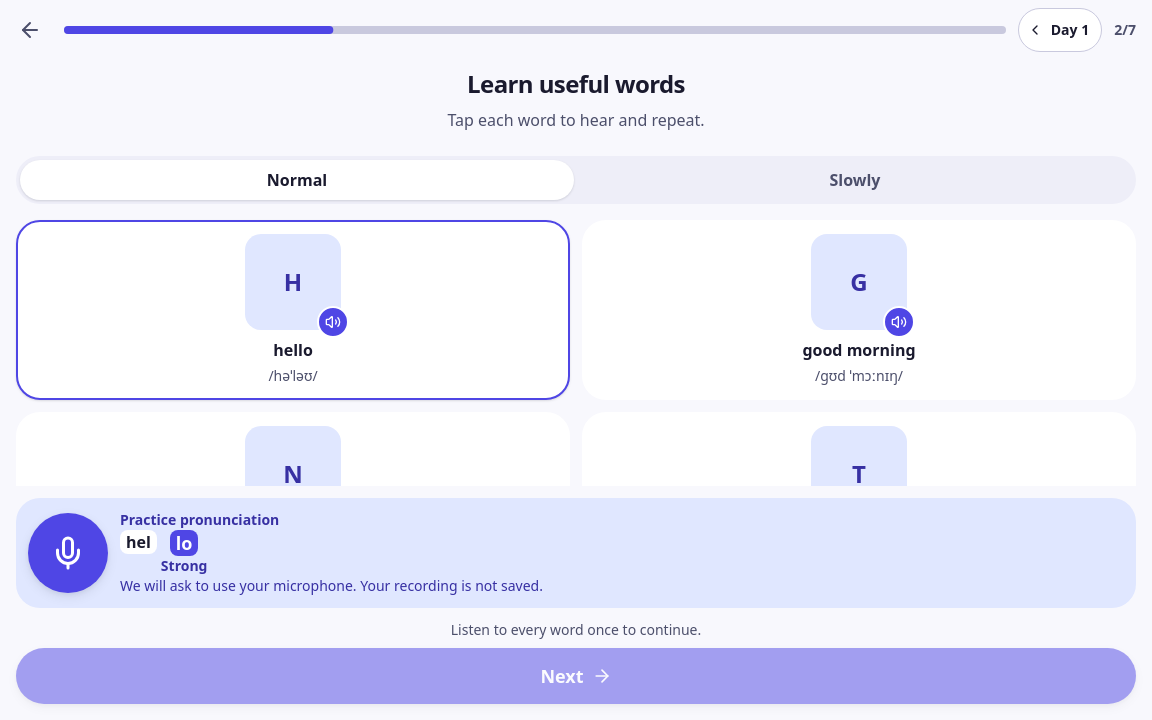
Test case: Day 2: Learn useful words › practising the pronunciation › having the recording checked › is not offered on a device that cannot send its recording
The image size is (1152, 720).
Click the button named "Tap to speak".
click(68, 553)  # box [28,513,108,593]
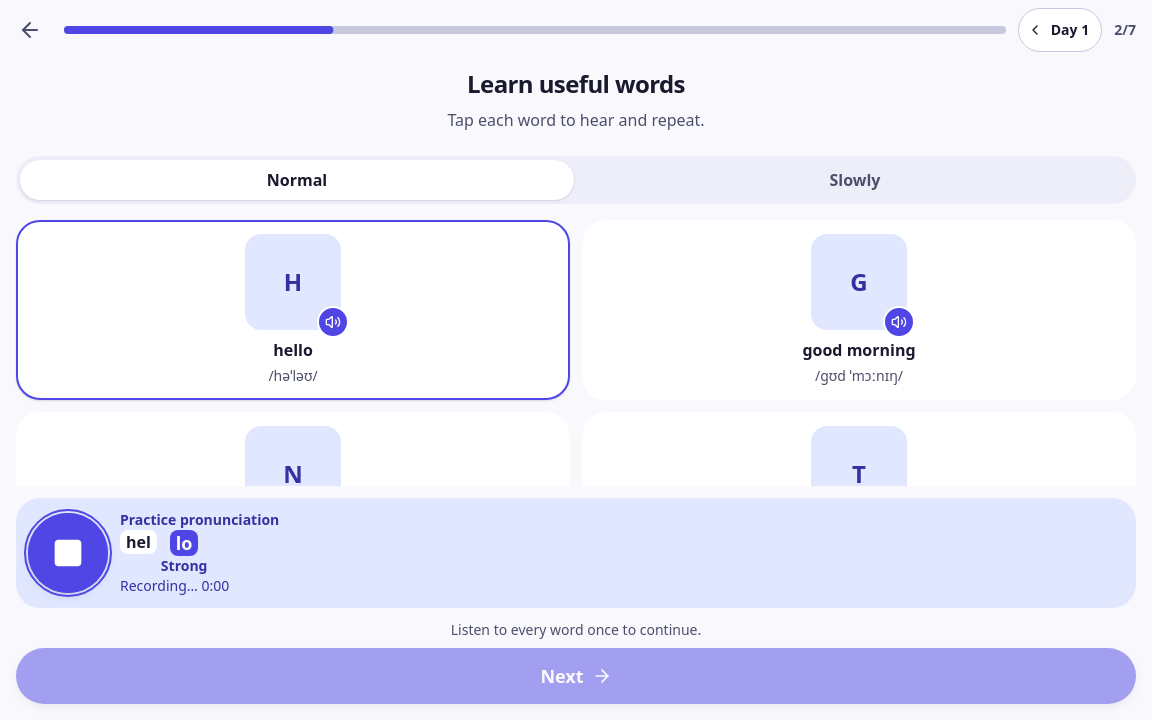
Now the text "Recording… 0:00" is shown, box [120,576,229,595]
Click the button named "Stop recording".
click(68, 553)  # box [28,513,108,593]
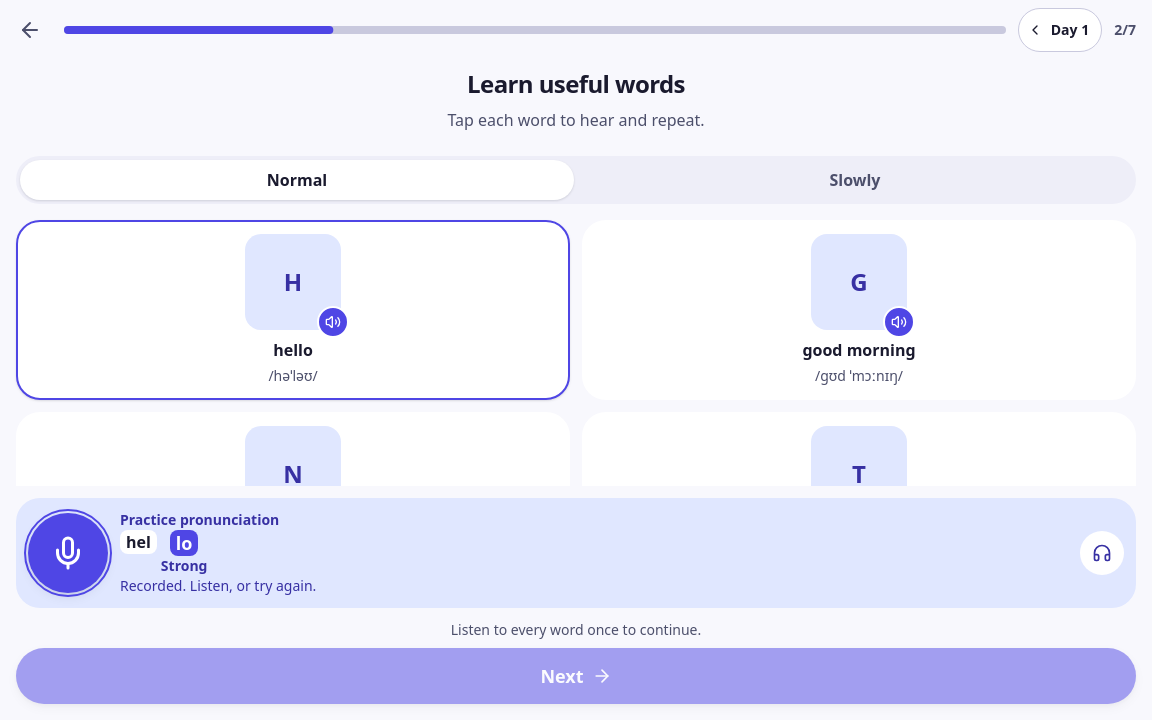
Now the text "Recorded. Listen, or try again." is shown, box [120,576,316,595]
Now the button named "Listen to yourself" is shown, box [1080,531,1124,575]
